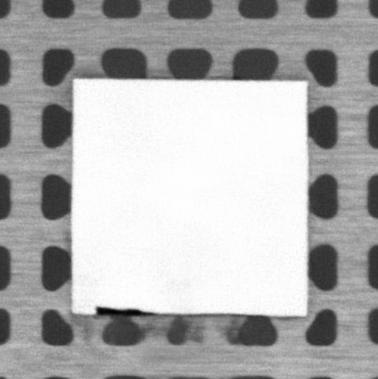DIE_BROKEN: (93, 304, 158, 317)
